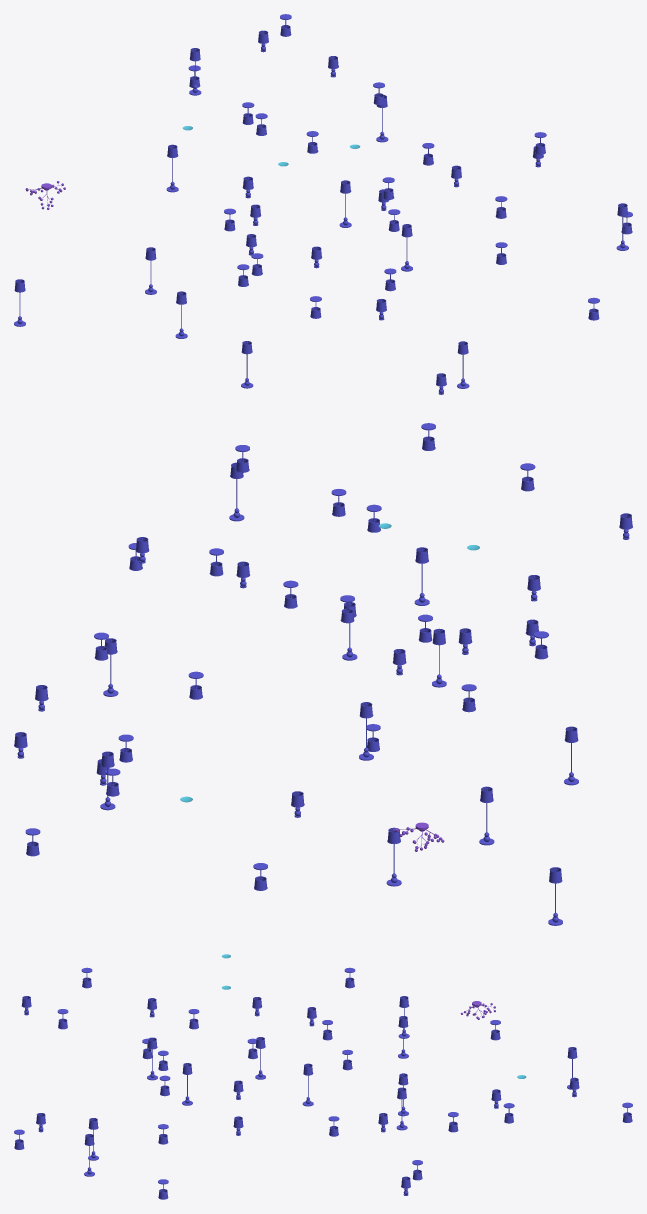
The model's file is Lamps.FBX.
The picture shows the model from 3 angles, top to bottom: view 1: azimuth 30°, elevation 25°; view 2: azimuth 150°, elevation 25°; view 3: azimuth 270°, elevation 25°; orthographic projection. The views are drawn at different scales.
Size of the model in its own units: 20.93 by 8.9 by 25.75.
